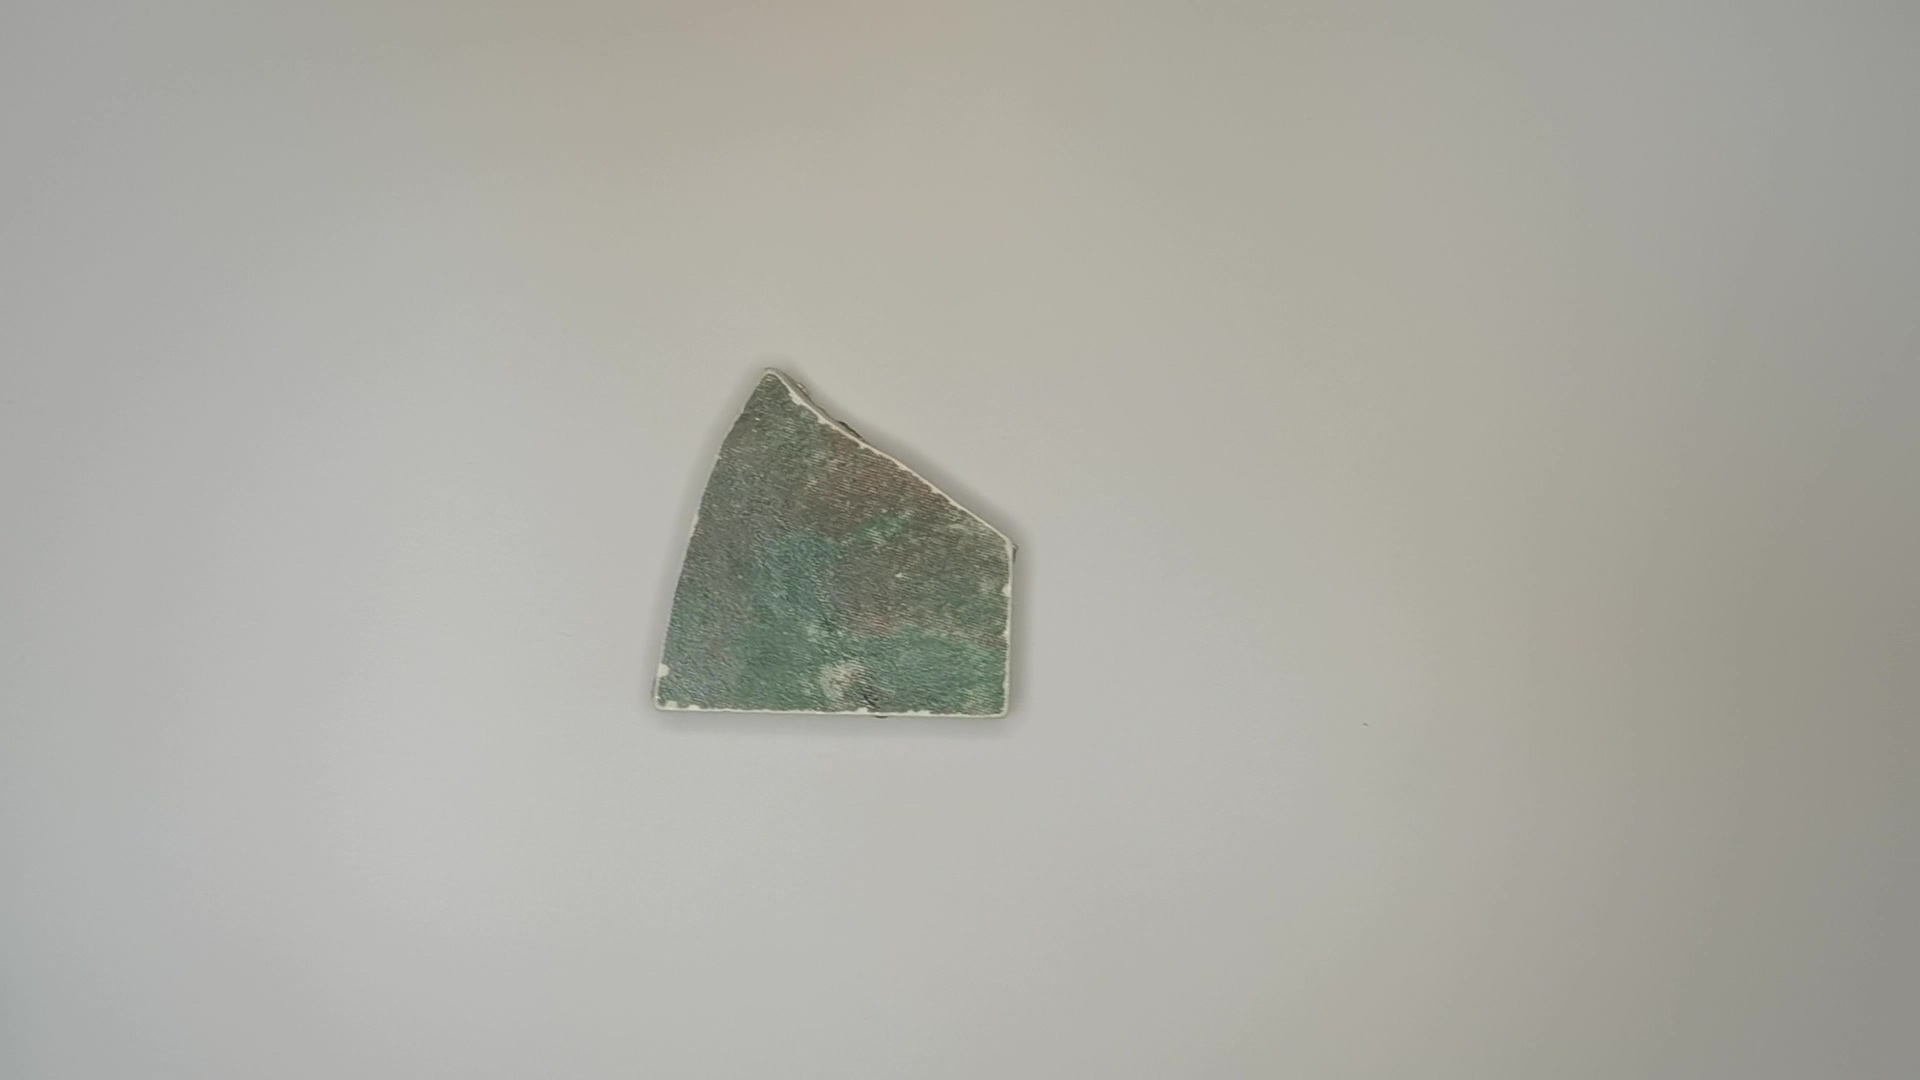ceramic: (649, 356, 1019, 728)
